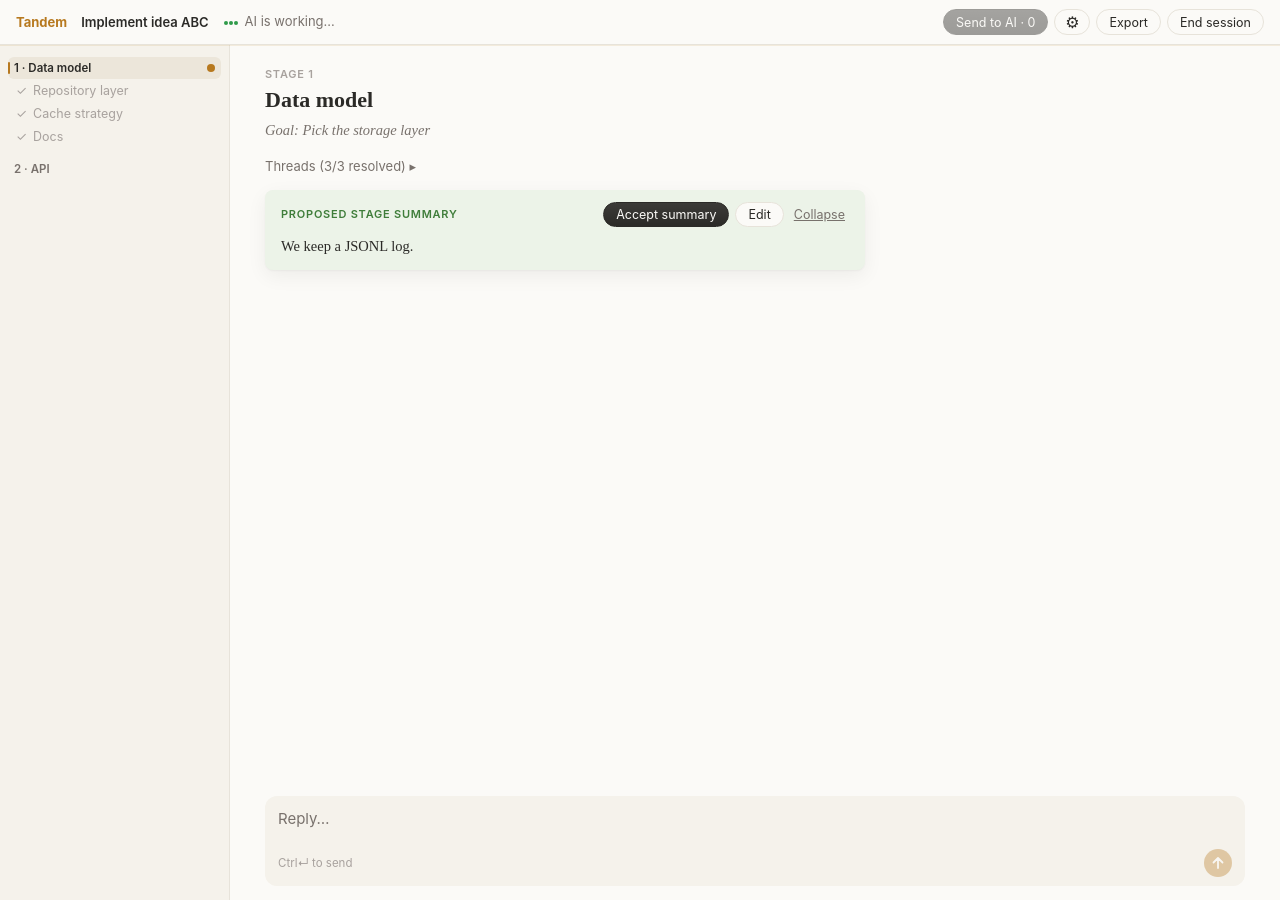
Scenario: SessionPage › advances to the next stage once Accept summary succeeds
Click the button "Accept summary" at (666, 215), box top-left (603, 202), bottom-right (730, 227)
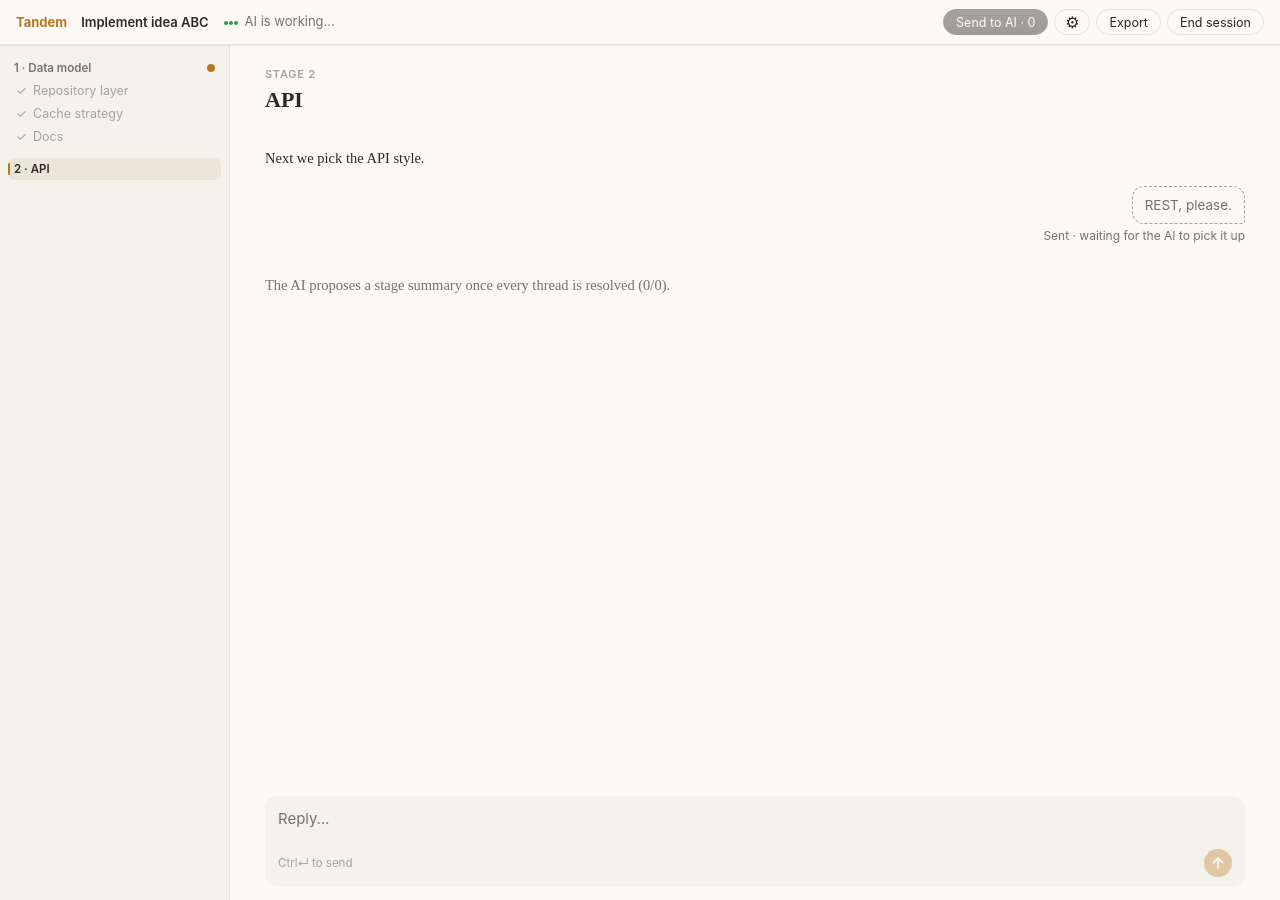
Expected: the heading "API" is shown, top-left (265, 87), bottom-right (303, 112)
